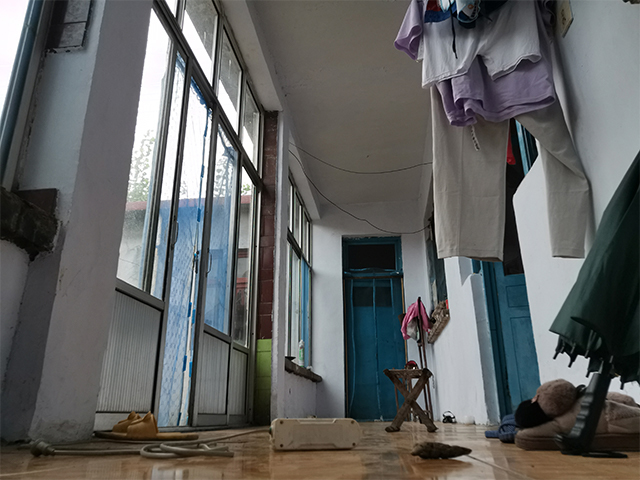feces: (409, 438, 474, 462)
slippers: (91, 408, 201, 443)
stool: (379, 363, 440, 435)
wire: (20, 415, 365, 462)
